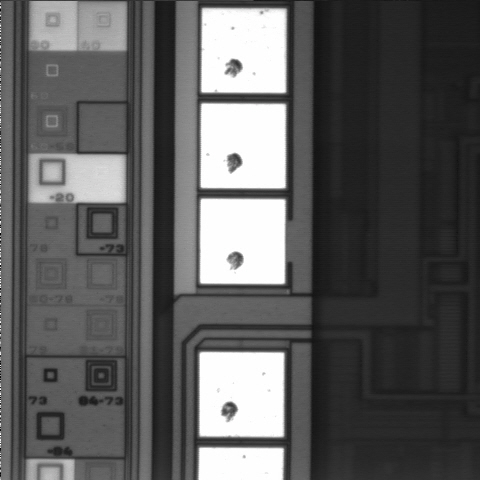pad: (201, 8, 286, 93), (200, 199, 285, 284), (201, 104, 286, 188), (200, 352, 284, 437)
